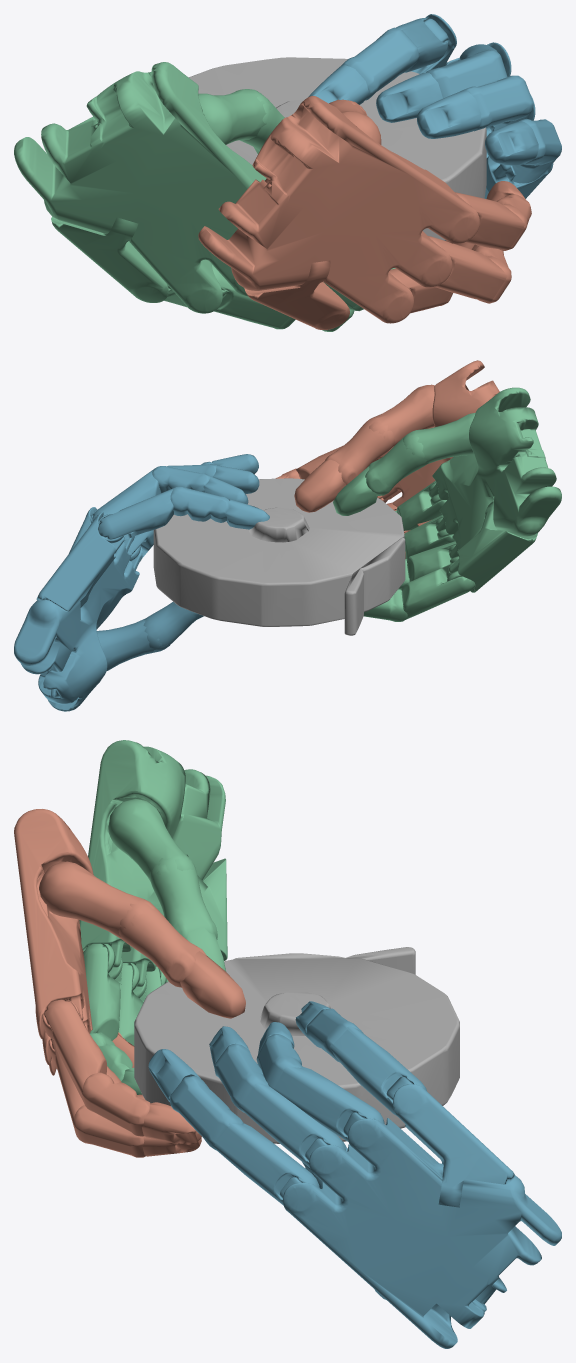
The picture shows the model from 3 angles, top to bottom: view 1: azimuth 30°, elevation 25°; view 2: azimuth 150°, elevation 25°; view 3: azimuth 270°, elevation 25°; orthographic projection. The views are drawn at different scales.
Bounding box in the file's own units: 0.2912 × 0.2069 × 0.2569.
